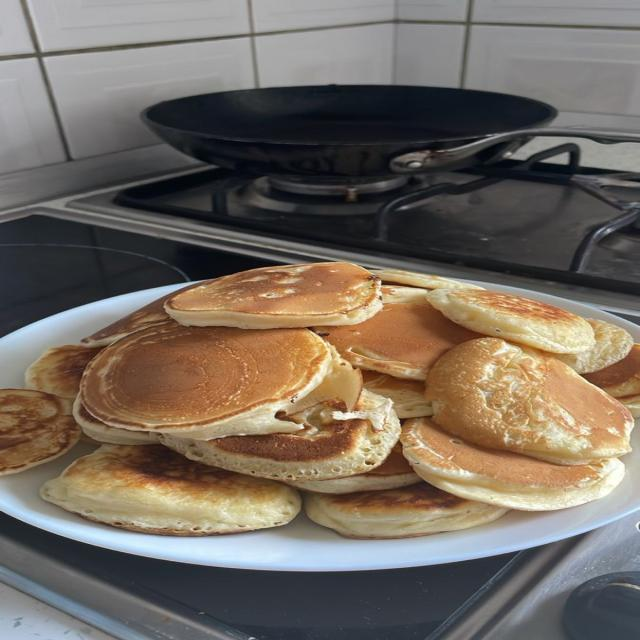pancake: (81, 324, 332, 439), (427, 338, 633, 465), (40, 445, 300, 535), (160, 391, 400, 479), (401, 419, 624, 510), (165, 263, 382, 329), (314, 303, 479, 380), (304, 483, 508, 539), (427, 289, 595, 353), (0, 389, 80, 475), (285, 444, 421, 493), (81, 288, 187, 347), (556, 319, 633, 373), (25, 345, 101, 398), (74, 397, 157, 445), (585, 344, 639, 417), (363, 371, 432, 419), (370, 269, 482, 290), (382, 285, 427, 303)
